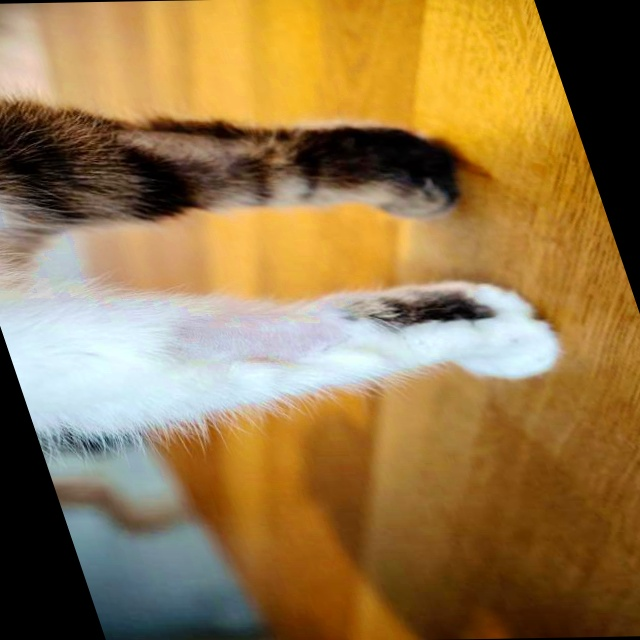hairloss: (143, 297, 374, 371)
